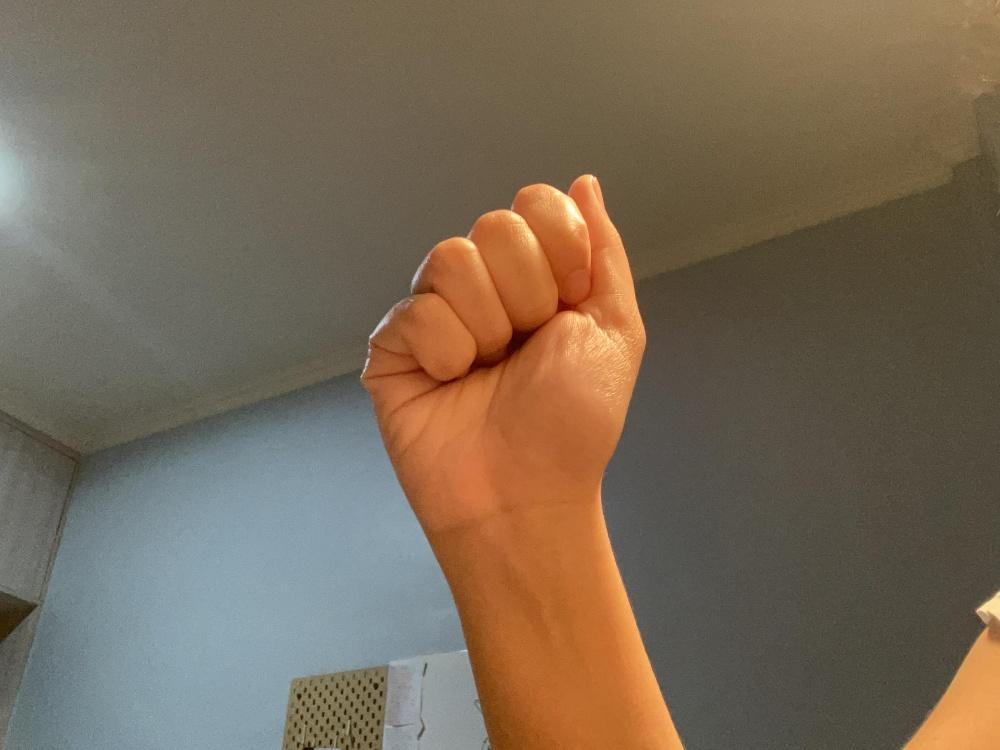a: (359, 172, 646, 533)
